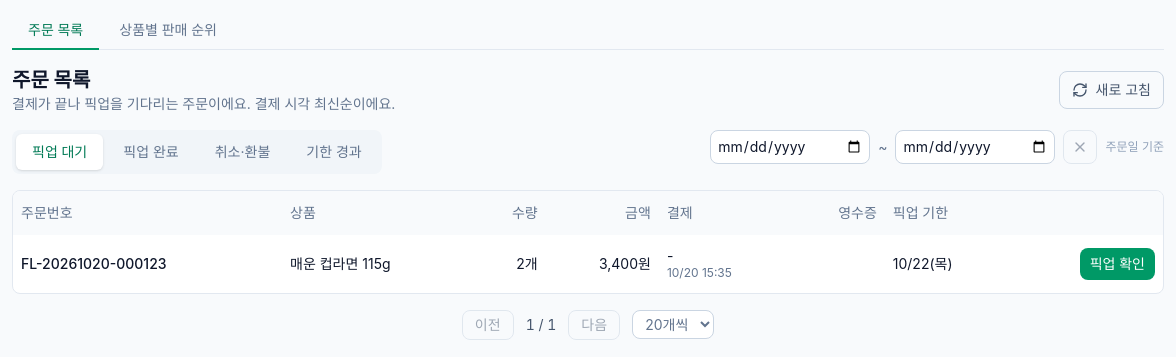
Test: 점주 주문 목록 (S-50·A5·A6) › 구분을 바꾸면 그 구분으로 다시 읽고, [픽업 확인]은 픽업 대기에서만 보인다 (A6)
The width and height of the screenshot is (1176, 357).
Check: the button with aria-label "FL-20261020-000123 픽업 확인" is shown, box 1080,248 -> 1155,280
Step 1. Click the tab "픽업 완료" → (151, 152), box 107,134 -> 195,170
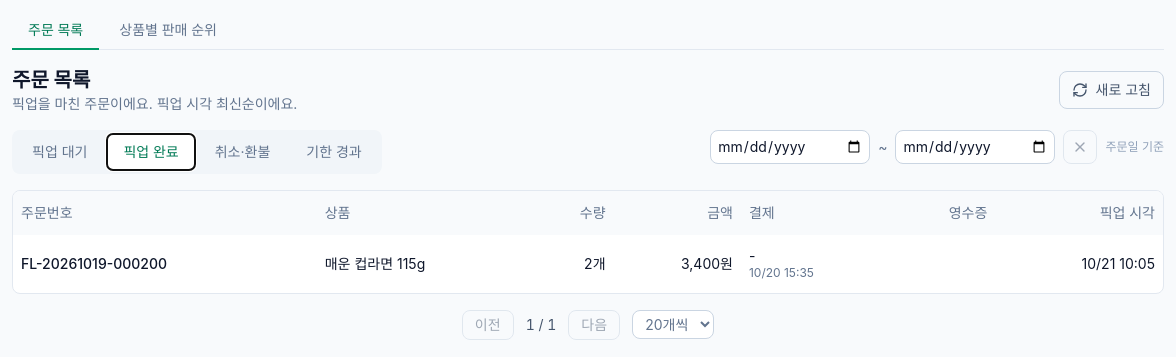
Check: the text "FL-20261019-000200" is shown, box 13,235 -> 317,292
Check: the column heading "픽업 시각" is shown, box 995,191 -> 1163,235
Check: the text "10/21 10:05" is shown, box 995,235 -> 1163,292
Step 2. Click the tab "기한 경과" → (334, 152), box 290,134 -> 378,170
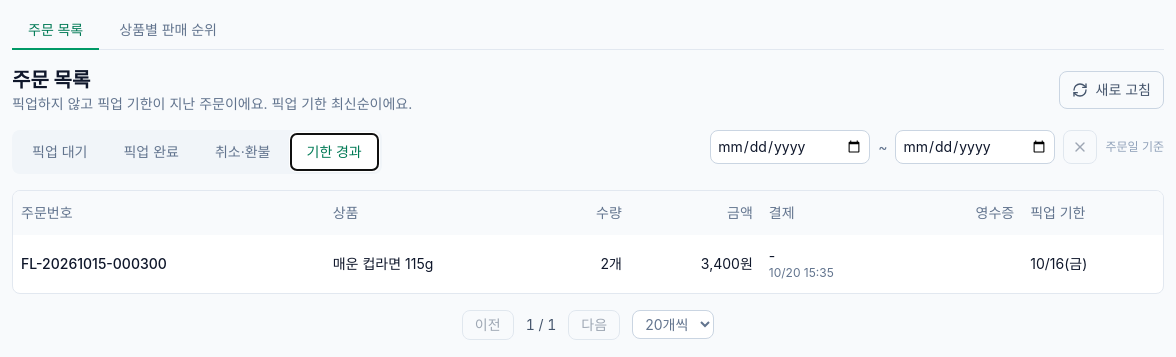
Check: the button "픽업 확인" is not shown
Check: the text "FL-20261015-000300" is shown, box 13,235 -> 325,292
Check: the text "10/16(금)" is shown, box 1022,235 -> 1163,292
Step 3. Click the tab "취소·환불" → (243, 152), box 199,134 -> 286,170
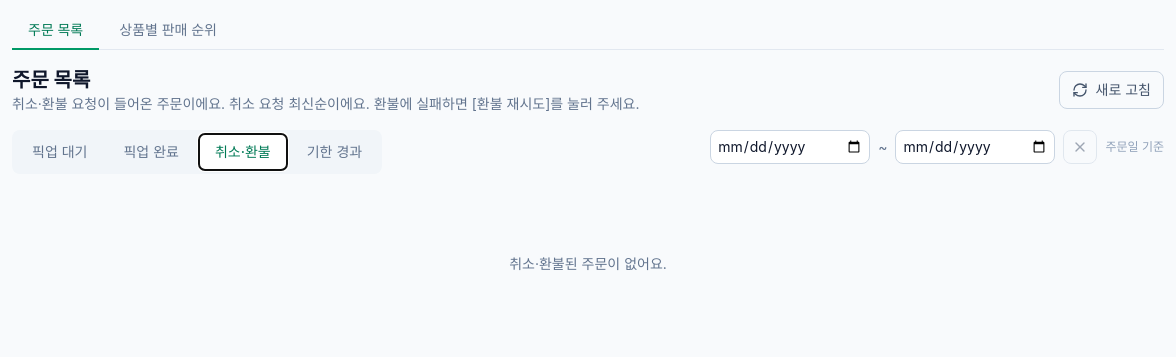
Check: the text "취소·환불된 주문이 없어요." is shown, box 509,255 -> 667,272
